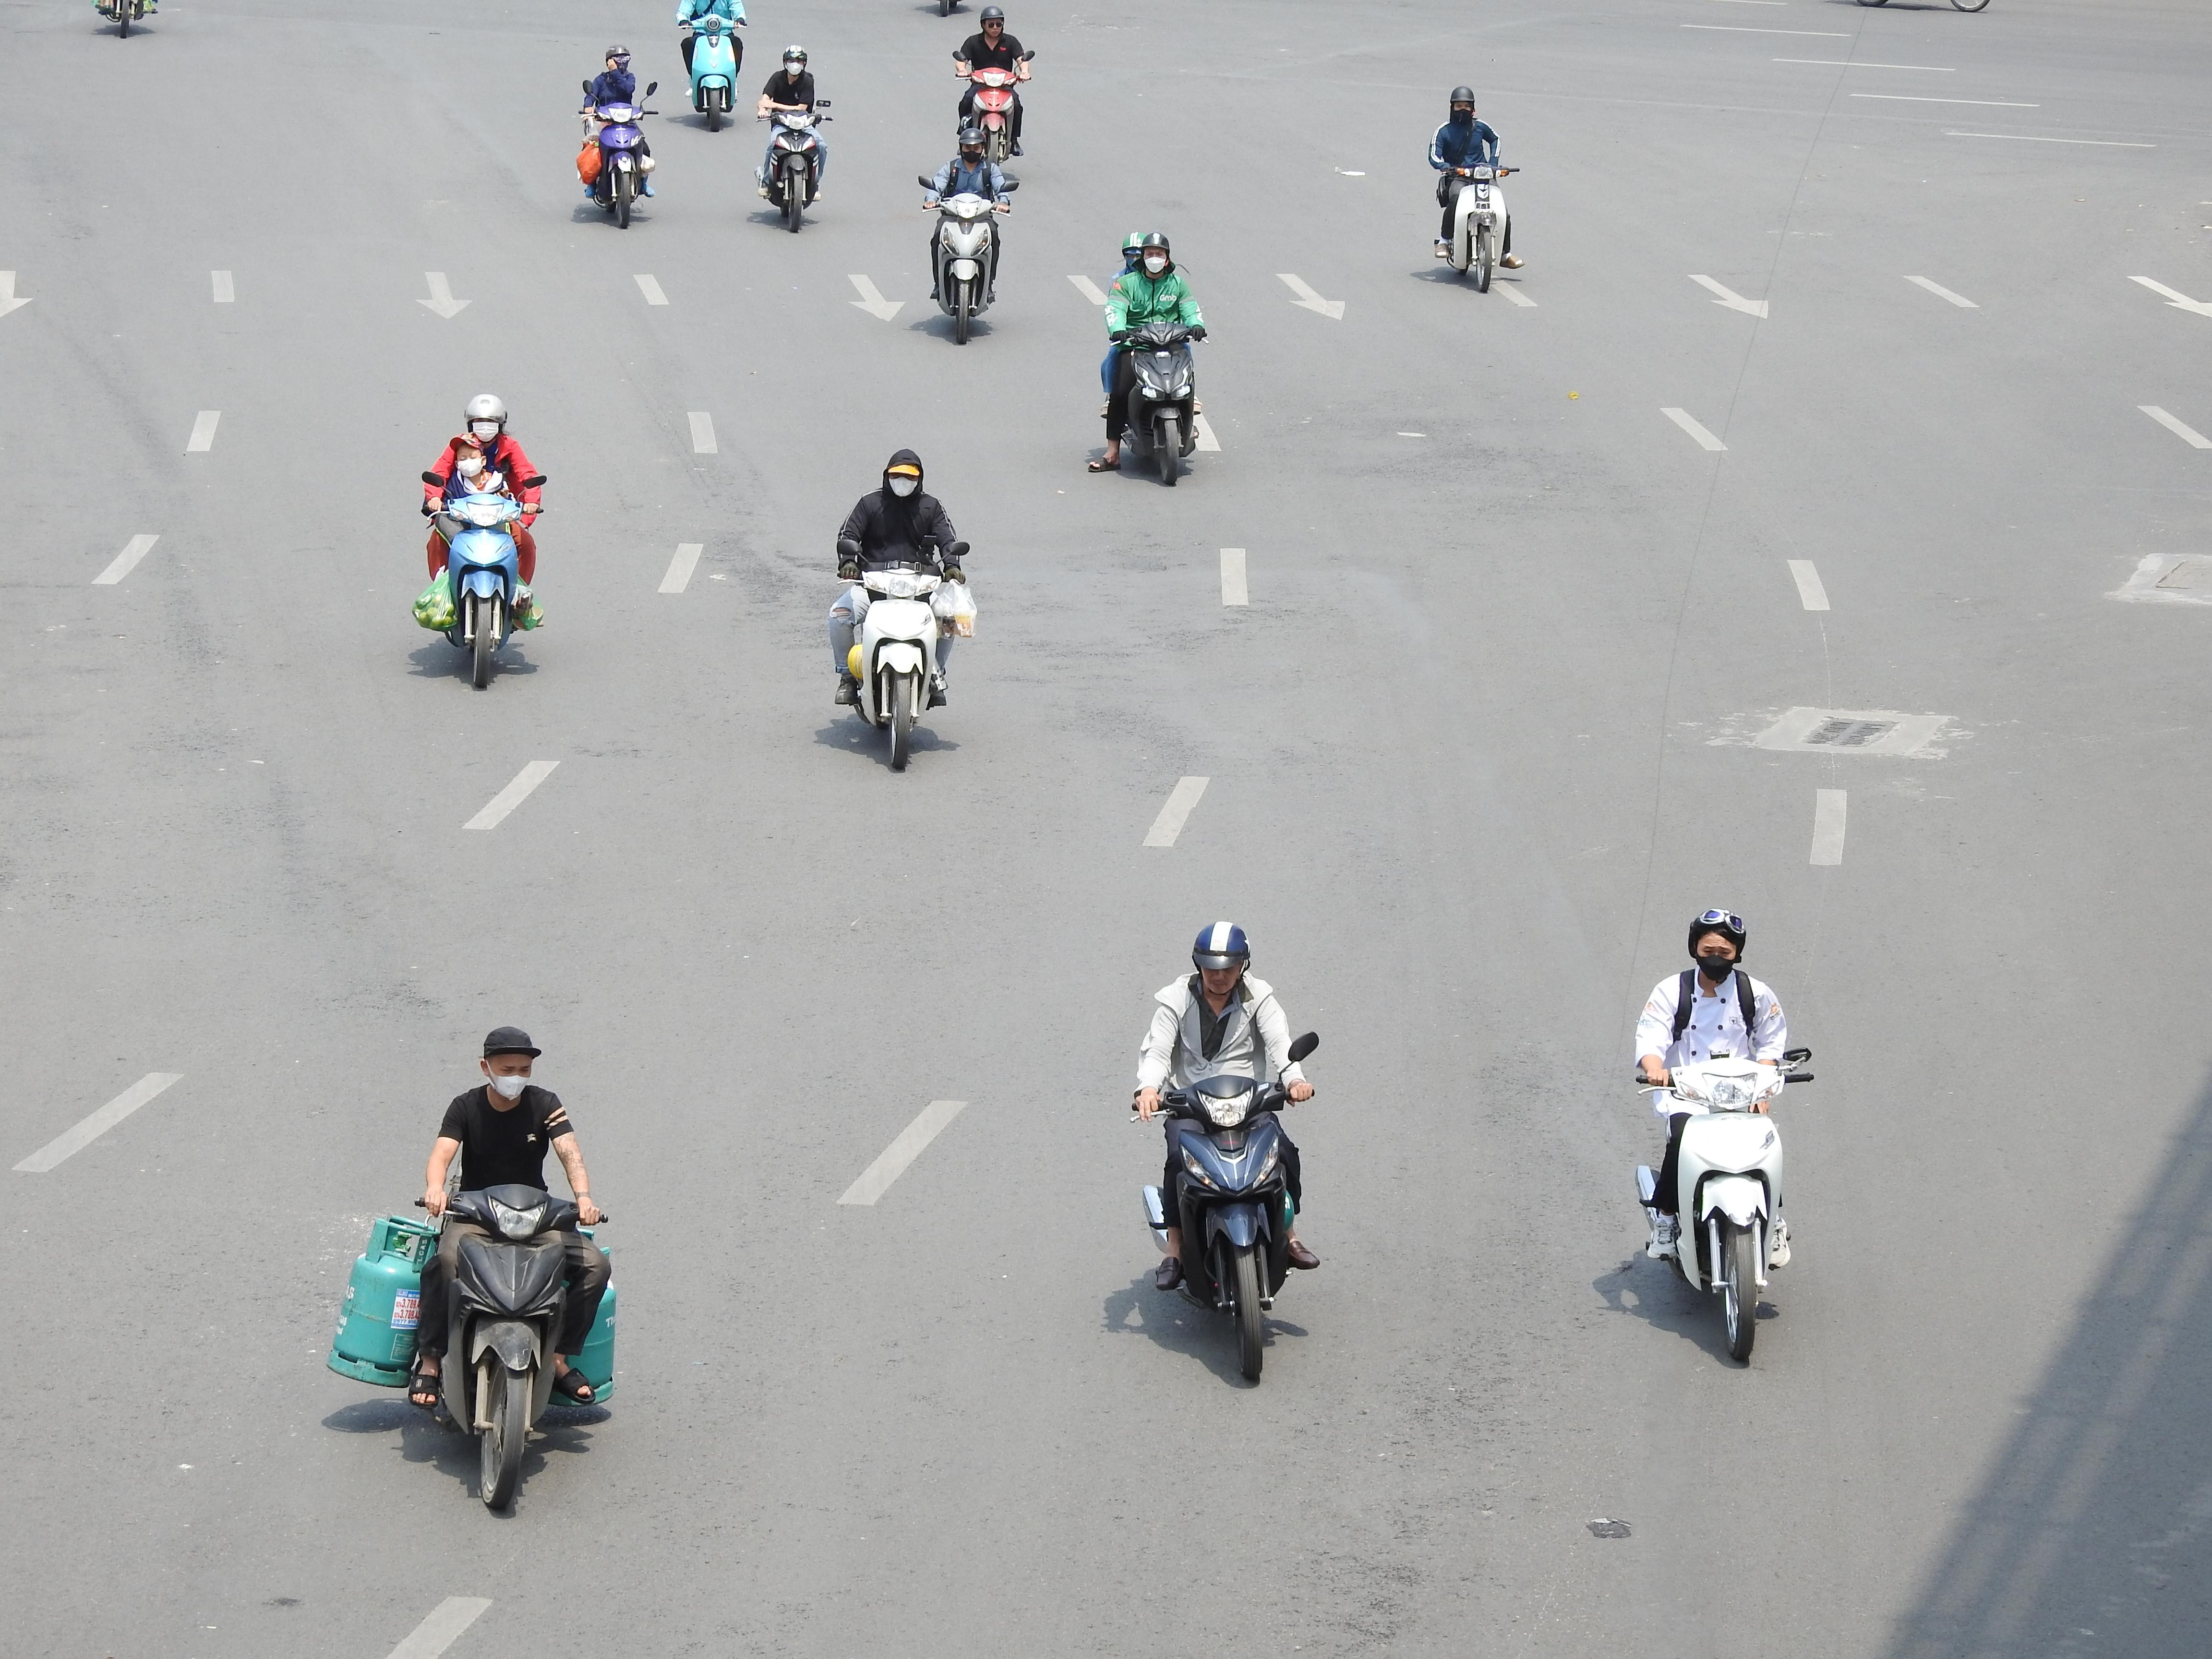motorbike: (329, 1023, 618, 1518), (1134, 920, 1320, 1387), (1634, 906, 1811, 1368), (827, 446, 972, 774), (418, 392, 542, 692), (1092, 228, 1209, 488), (921, 125, 1014, 345), (1428, 85, 1522, 295), (577, 42, 657, 228), (754, 44, 831, 232), (953, 5, 1031, 160), (678, 0, 747, 131)
